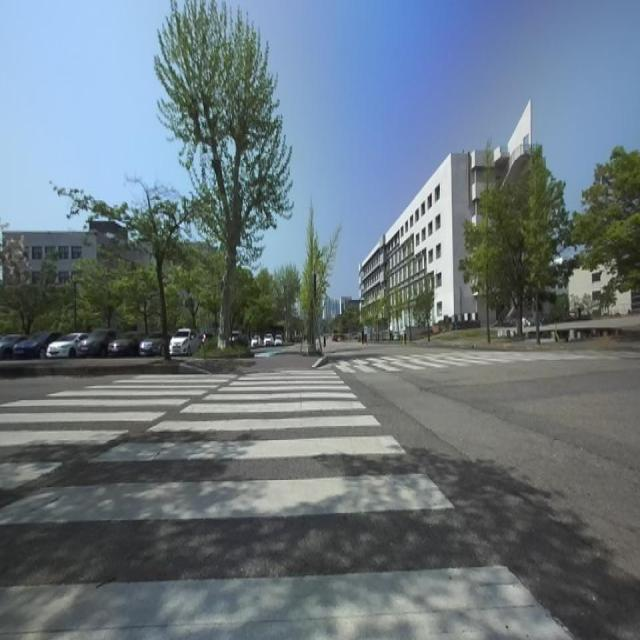sidewalk: (172, 345, 322, 374), (0, 357, 163, 368)
